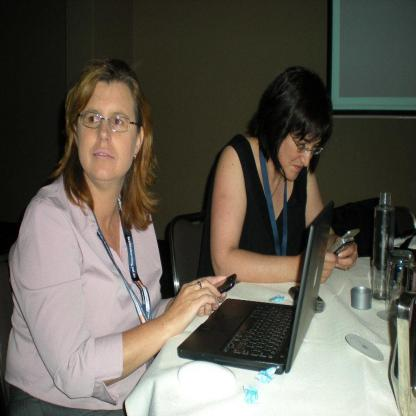board: (176, 221, 331, 374), (371, 190, 394, 302)
